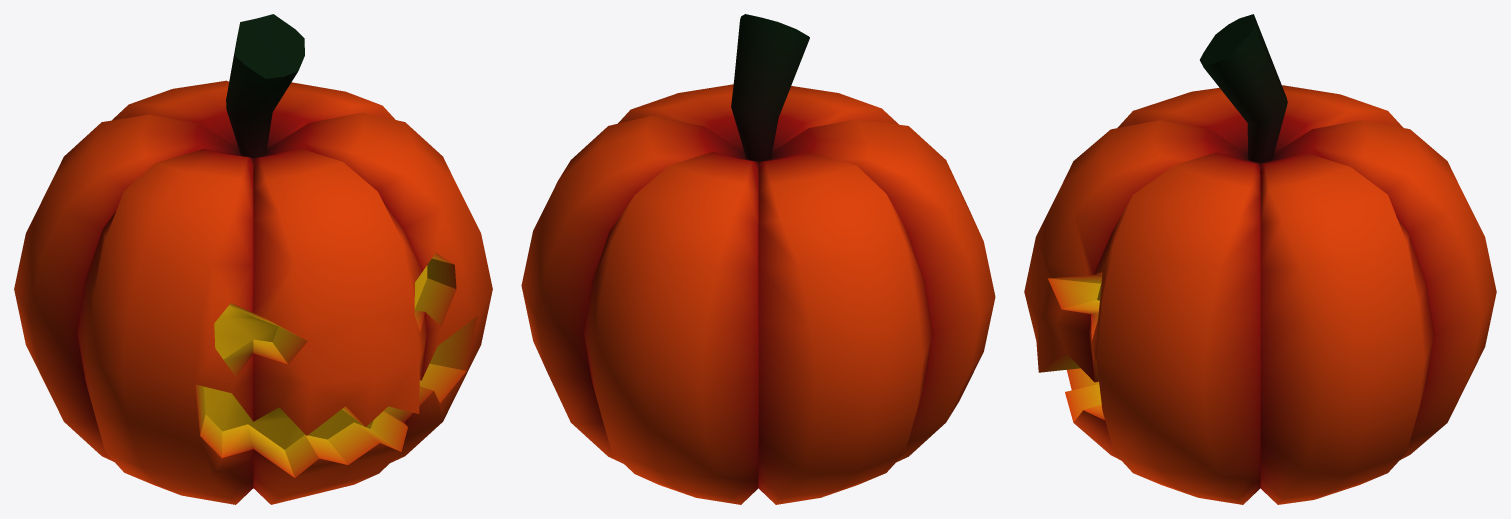
Rendered from PumpkinHead.fbx.
3 renders of one model, left to right at view 1: azimuth 30°, elevation 25°; view 2: azimuth 150°, elevation 25°; view 3: azimuth 270°, elevation 25°, orthographic.
Visible parts, largest first — view 1: PumpkinHead; view 2: PumpkinHead; view 3: PumpkinHead.
Boxes of the visible parts, <box> form: PumpkinHead: <box>14,14,492,504</box>; PumpkinHead: <box>521,14,995,504</box>; PumpkinHead: <box>1024,14,1496,504</box>.
Size of the model in its own units: 0.5809 by 0.6197 by 0.6167.
